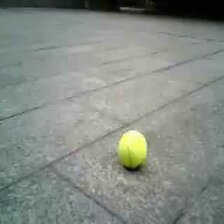tennis: (119, 131, 146, 165)
